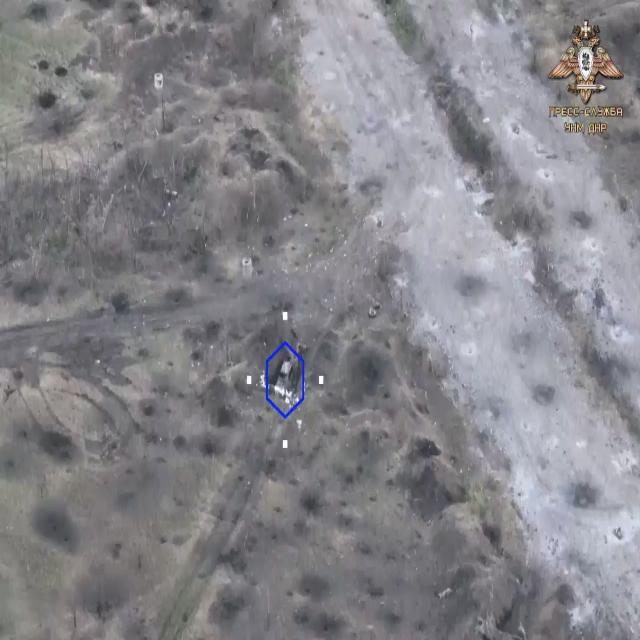cars: (276, 362, 294, 388)
